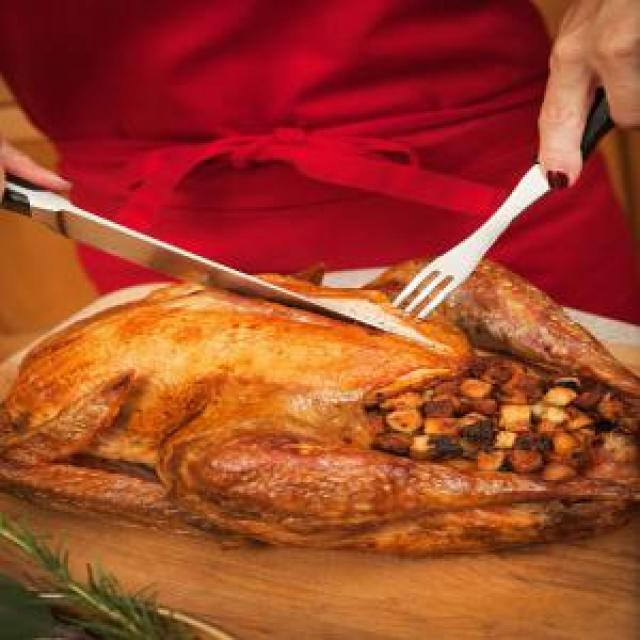knife: (0, 130, 452, 361)
